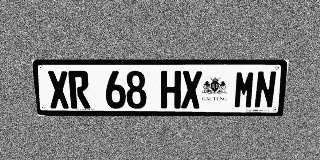6: (105, 71, 126, 108)
8: (126, 71, 146, 108)
H: (161, 71, 181, 108)
M: (233, 71, 256, 108)
N: (253, 71, 277, 108)
R: (68, 71, 91, 108)
X: (47, 71, 70, 108), (181, 71, 202, 108)
